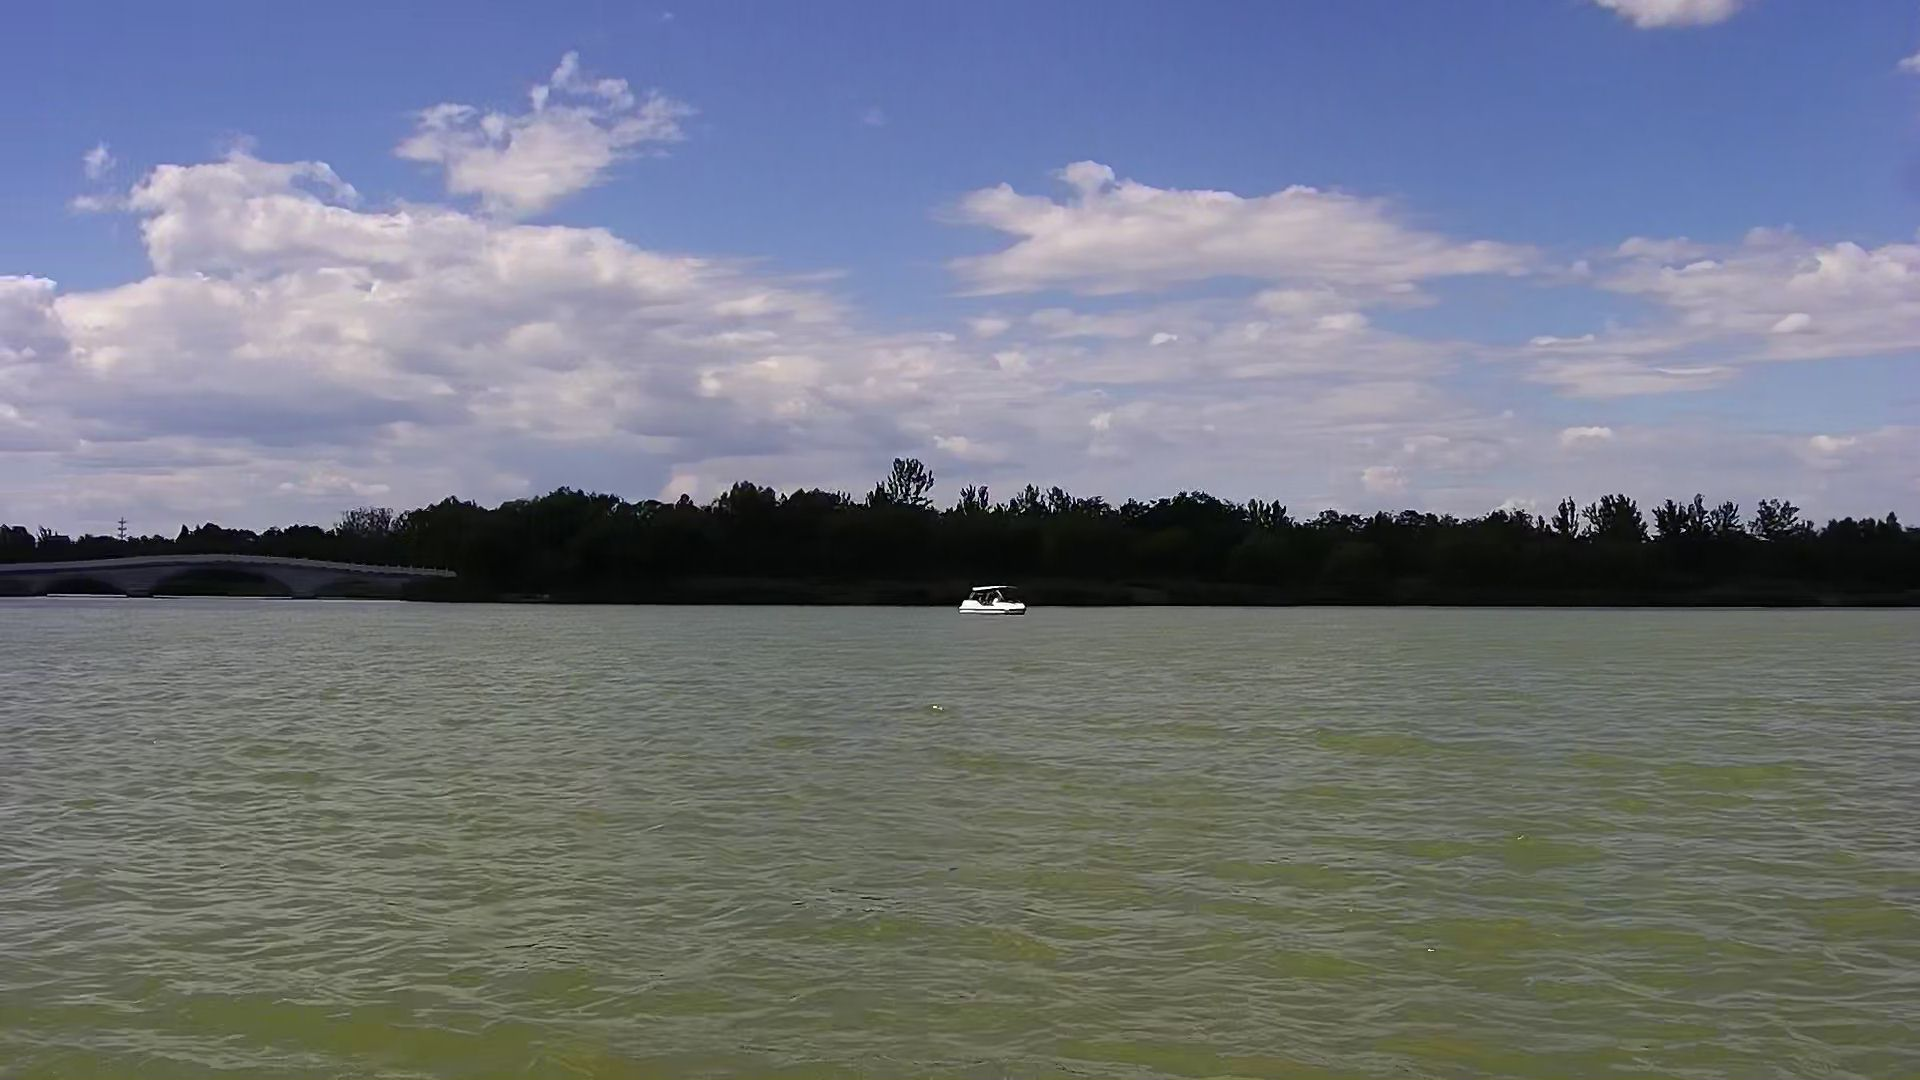boat: (955, 575, 1036, 618)
bridge: (1, 546, 459, 600)
